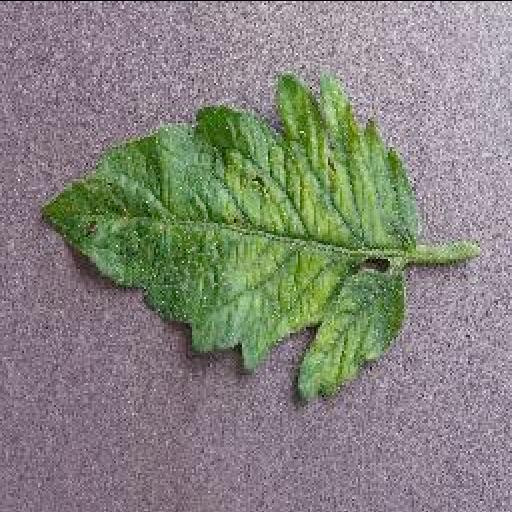disease_tomato: (34, 68, 416, 406)
